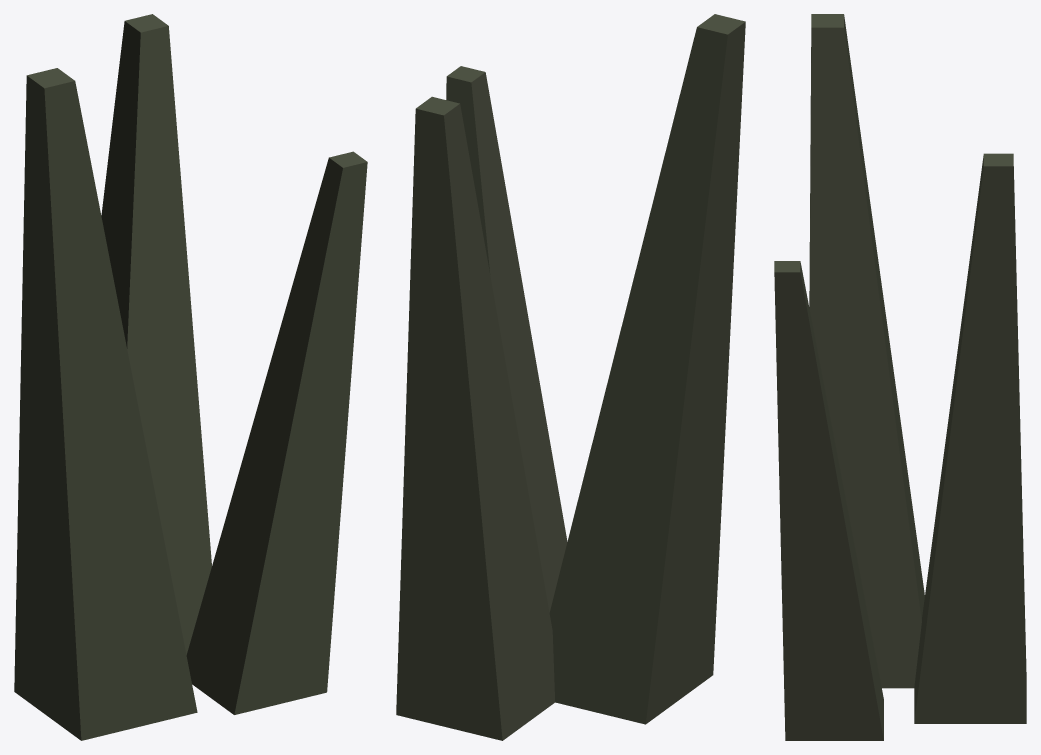
File: AI_Env_Sewer_Plant_01.fbx
3 views of the same model, side by side, from view 1: azimuth 30°, elevation 25°; view 2: azimuth 150°, elevation 25°; view 3: azimuth 270°, elevation 25° (orthographic). The views are drawn at different scales.
Parts seen in each view (by area): view 1: AI_Env_Sewer_Plant_01; view 2: AI_Env_Sewer_Plant_01; view 3: AI_Env_Sewer_Plant_01.
Boxes of the visible parts, x1,y1,x2,y2 form: AI_Env_Sewer_Plant_01: (14,14,367,740); AI_Env_Sewer_Plant_01: (396,14,745,740); AI_Env_Sewer_Plant_01: (774,14,1026,740).
Bounding box in the file's own units: 0.3402 × 0.7072 × 0.2666.
